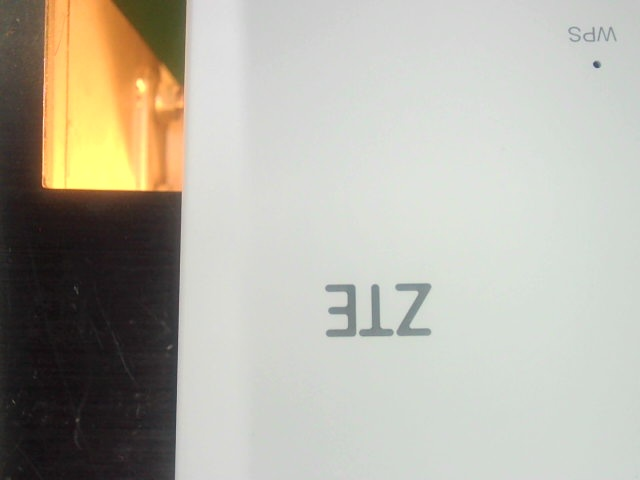AO_ZTESmall: (311, 266, 440, 343)
